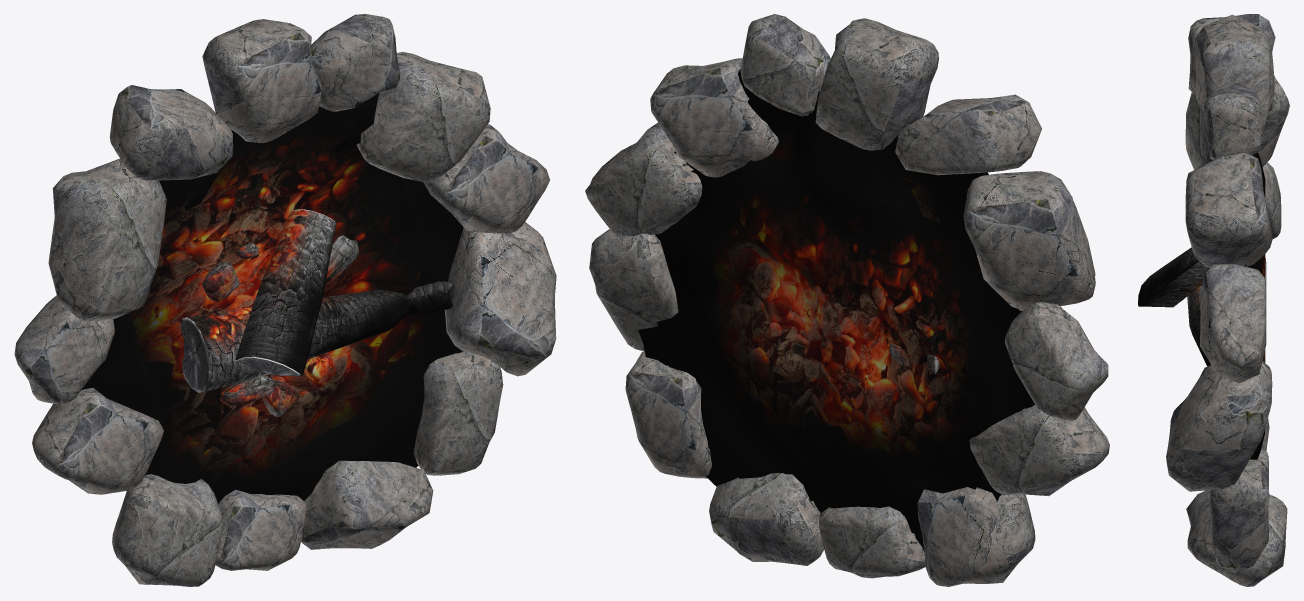
Rendered from fuego.obj.
3 renders of one model, left to right at view 1: azimuth 30°, elevation 25°; view 2: azimuth 150°, elevation 25°; view 3: azimuth 270°, elevation 25°, orthographic. The views are drawn at different scales.
Parts seen in each view (by area): view 1: obj3, obj4, obj5, obj6; view 2: obj3, obj4; view 3: obj3, obj5, obj4.
Part boxes in pixels (x1,y1,x2,y2): obj3: [14, 14, 556, 586]; obj4: [82, 93, 463, 503]; obj5: [188, 209, 455, 416]; obj6: [180, 317, 301, 392]; obj3: [585, 14, 1109, 586]; obj4: [638, 69, 1034, 551]; obj3: [1166, 14, 1289, 586]; obj5: [1138, 247, 1210, 366]; obj4: [1245, 152, 1265, 459].
Bounding box in the file's own units: 6.34 × 6.4 × 1.75.
Materials: 5 (4 with a texture image).
